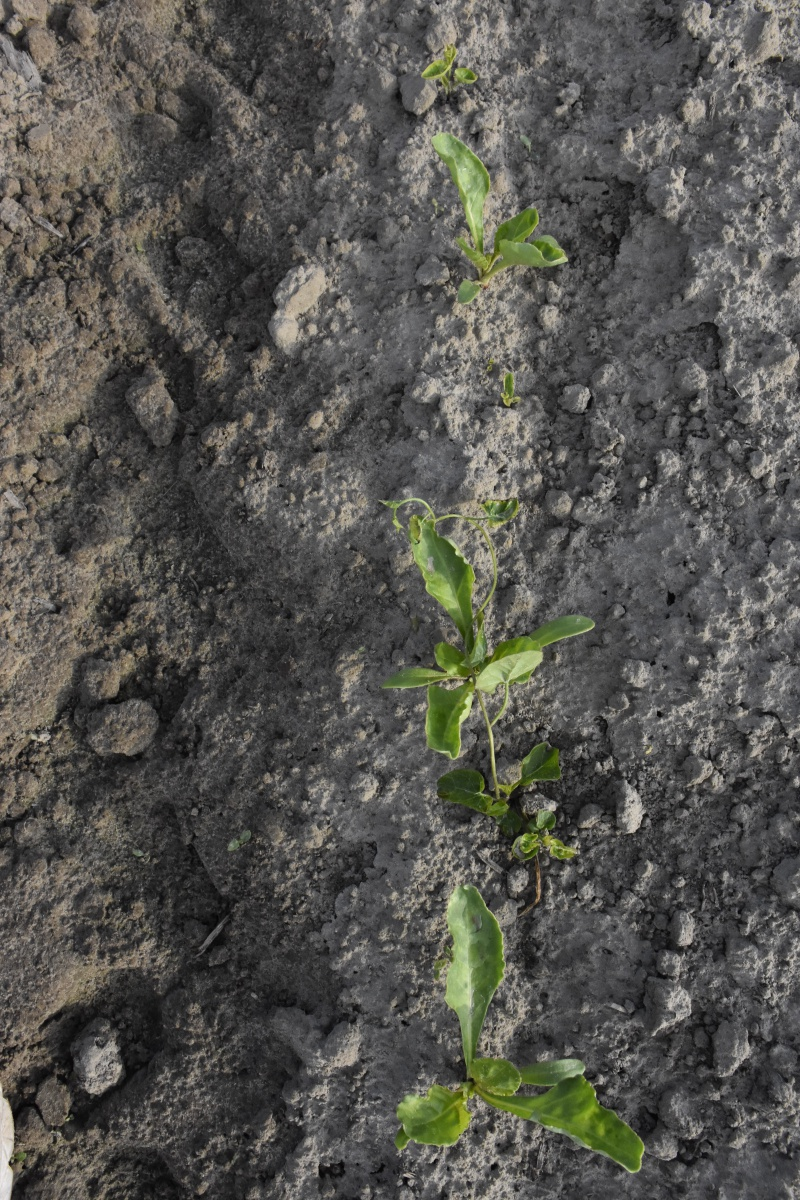field bindweed: (457, 605, 578, 865), (426, 45, 478, 99), (491, 382, 524, 421)
sugar beet: (397, 879, 653, 1179), (390, 528, 581, 741), (413, 128, 574, 312)
